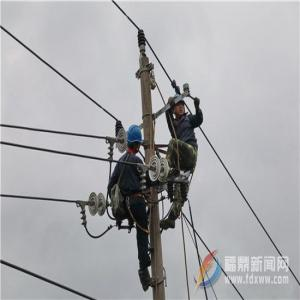blue: (127, 125, 143, 155), (171, 93, 186, 117)
